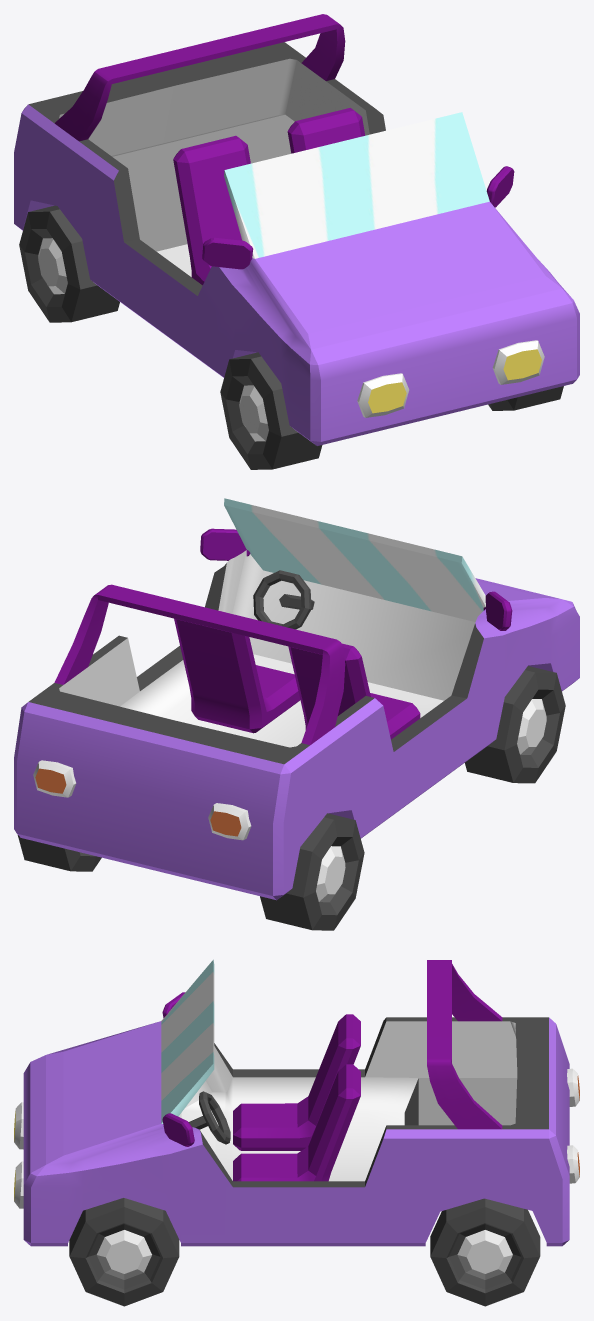
Rendered from topless car.fbx.
3 renders of one model, top to bottom at view 1: azimuth 30°, elevation 25°; view 2: azimuth 150°, elevation 25°; view 3: azimuth 270°, elevation 25°, orthographic. The views are drawn at different scales.
Parts seen in each view (by area): view 1: body, pCylinder5, pCylinder6, polySurface86; view 2: body, pCylinder5, pCylinder6, pCylinder4; view 3: body, pCylinder4, polySurface86.
Part boxes in pixels (x1,y1,x2,y2): body: (14,14,579,445); pCylinder5: (19,205,119,322); pCylinder6: (220,352,322,469); polySurface86: (488,386,563,410); body: (14,498,579,900); pCylinder5: (260,813,364,930); pCylinder6: (465,666,565,783); pCylinder4: (17,835,101,871); body: (14,959,579,1246); pCylinder4: (430,1198,540,1306); polySurface86: (69,1198,179,1306).
Size of the model in its own units: 30.12 by 24.15 by 53.09.
Materials: 1 (1 with a texture image).
